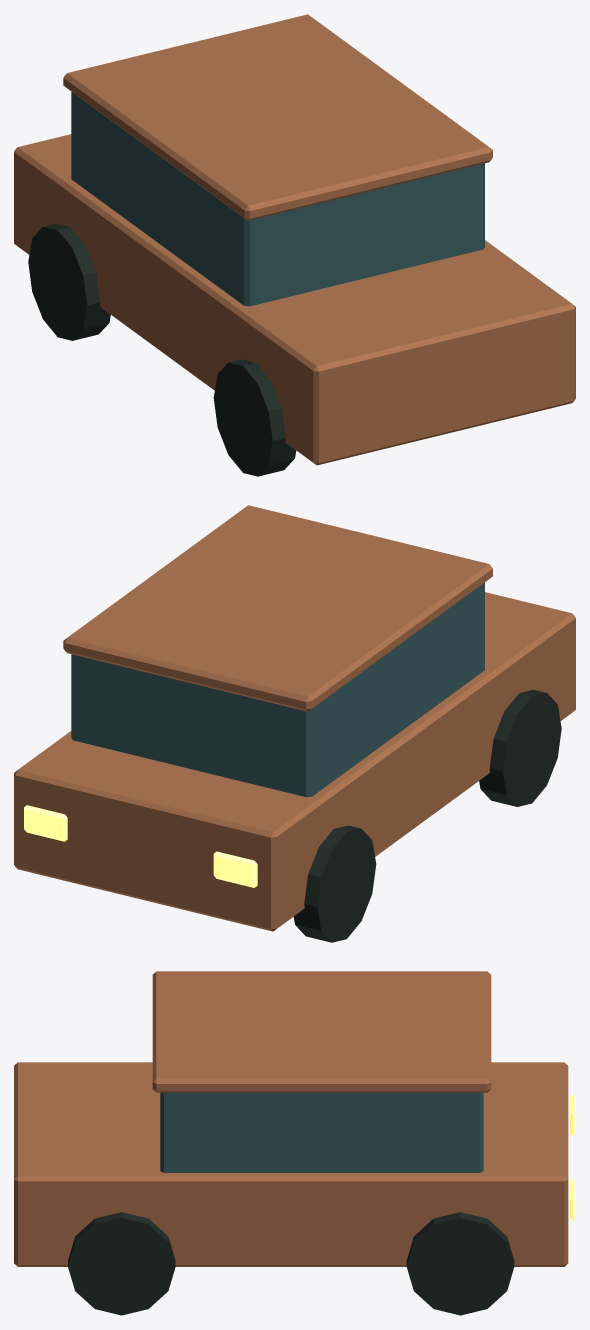
The model's file is compact_car.glb.
3 views of the same model, one above another, from view 1: azimuth 30°, elevation 25°; view 2: azimuth 150°, elevation 25°; view 3: azimuth 270°, elevation 25° (orthographic). The views are drawn at different scales.
Visible parts, largest first — view 1: compact_car.001; view 2: compact_car.001; view 3: compact_car.001.
Boxes of the visible parts, <box> form: compact_car.001: <box>14,14,575,476</box>; compact_car.001: <box>14,505,575,942</box>; compact_car.001: <box>14,971,575,1315</box>.
Bounding box in the file's own units: 1.98 × 1.62 × 3.65.
